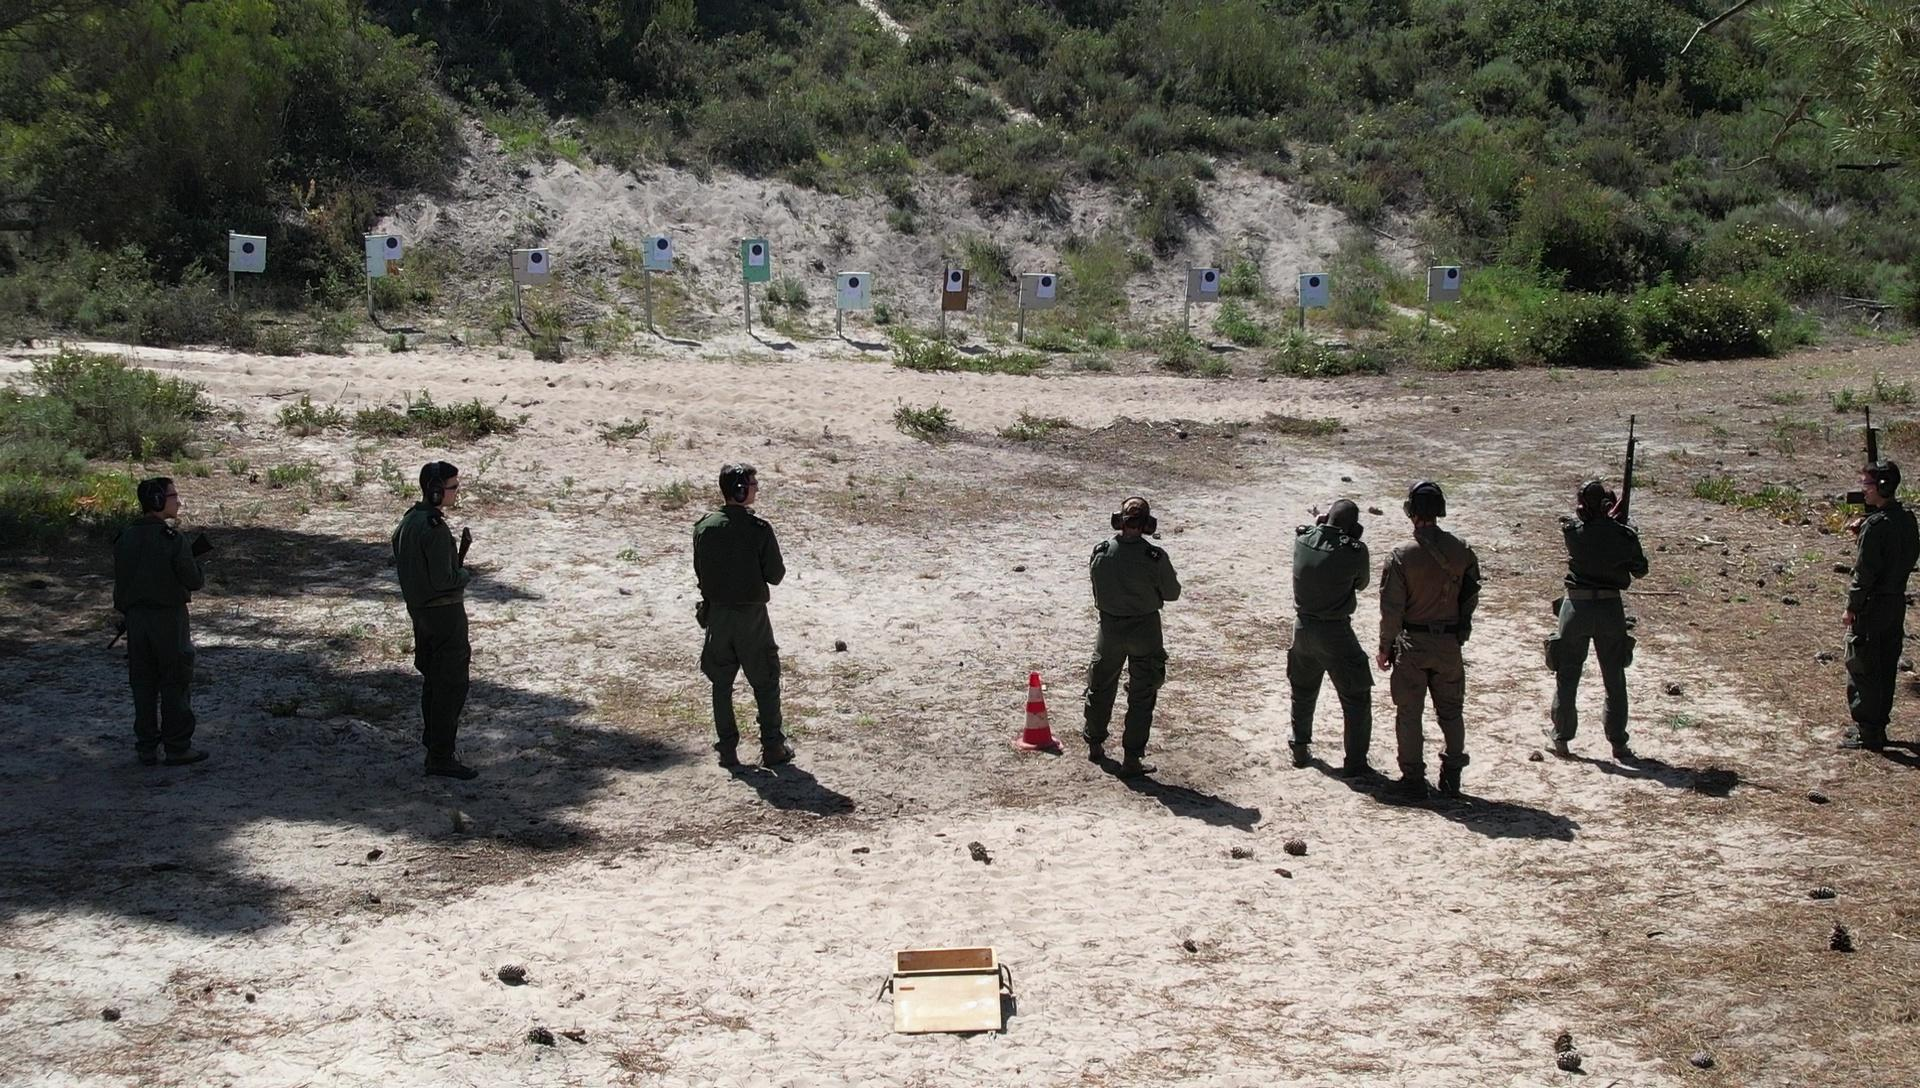Soldier: (363, 448, 523, 797), (1533, 398, 1654, 801), (97, 440, 221, 805), (1811, 403, 1919, 777), (1066, 486, 1195, 795), (1383, 456, 1482, 832), (1274, 503, 1379, 821), (688, 457, 792, 769)
